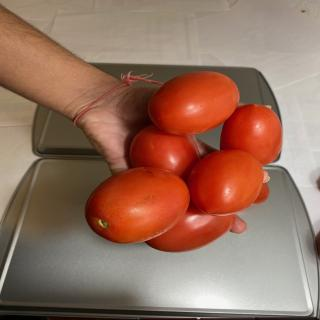Chilli: (84, 70, 283, 252)
Tomato: (84, 166, 190, 244), (147, 71, 240, 136), (187, 149, 264, 216), (145, 203, 236, 253), (129, 124, 201, 180), (220, 103, 283, 166)
